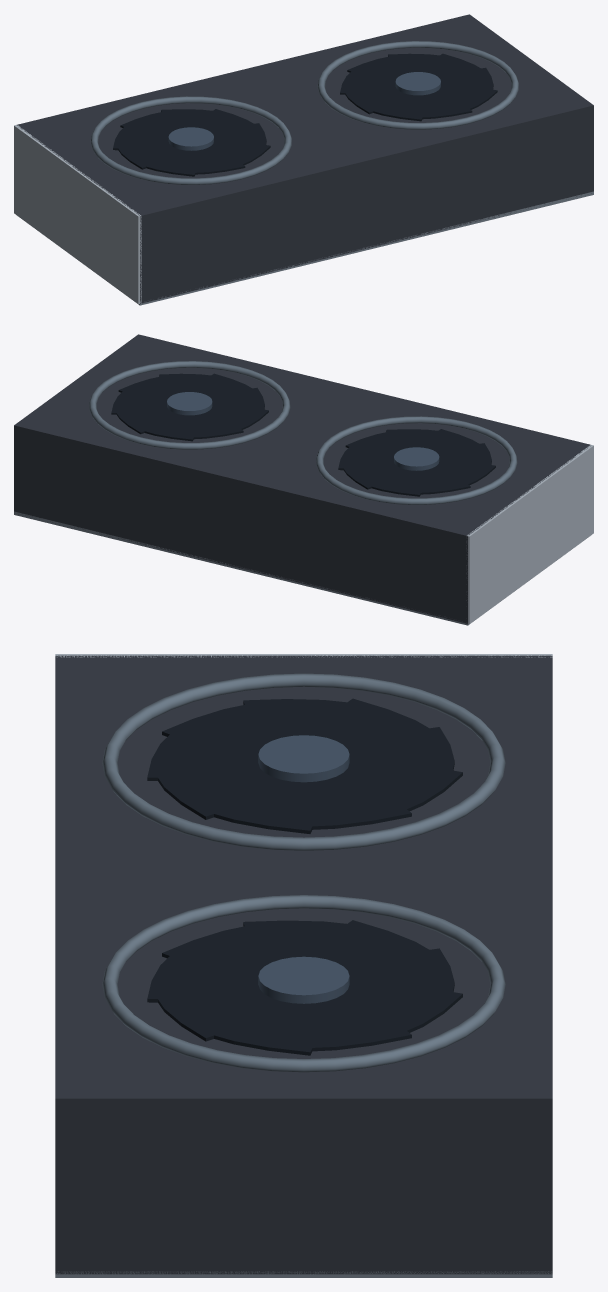
The model's file is retail-msi-geforce-rtx-3060-gaming-x-12g.glb.
The picture shows the model from 3 angles, top to bottom: view 1: azimuth 30°, elevation 25°; view 2: azimuth 150°, elevation 25°; view 3: azimuth 270°, elevation 25°; orthographic projection. The views are drawn at different scales.
Parts seen in each view (by area): view 1: Cooler shroud, Cooler blade (×18), Bracket, Fan rim (×2), Fan hub (×2), Backplate; view 2: Cooler shroud, Cooler blade (×18), Bracket, Fan rim (×2), Fan hub (×2), Backplate; view 3: Cooler shroud, Cooler blade (×18), Fan rim (×2), Fan hub (×2), Backplate, Bracket.
Part boxes in pixels (x1,y1,x2,y2): Cooler shroud: (17,14,593,303); Cooler blade (×18): (113,53,497,176); Bracket: (14,125,141,304); Fan rim (×2): (90,41,518,184); Fan hub (×2): (168,72,440,150); Backplate: (37,191,593,305); Cooler shroud: (14,334,590,623); Cooler blade (×18): (111,373,495,496); Bracket: (466,445,593,624); Fan rim (×2): (89,361,517,504); Fan hub (×2): (167,392,439,470); Backplate: (14,511,570,625); Cooler shroud: (55,655,552,1274); Cooler blade (×18): (147,698,462,1055); Fan rim (×2): (102,673,505,1072); Fan hub (×2): (258,735,349,1003); Backplate: (55,1271,552,1277); Bracket: (55,654,552,657).
Bounding box in the file's own units: 0.277 × 0.0555 × 0.131.
